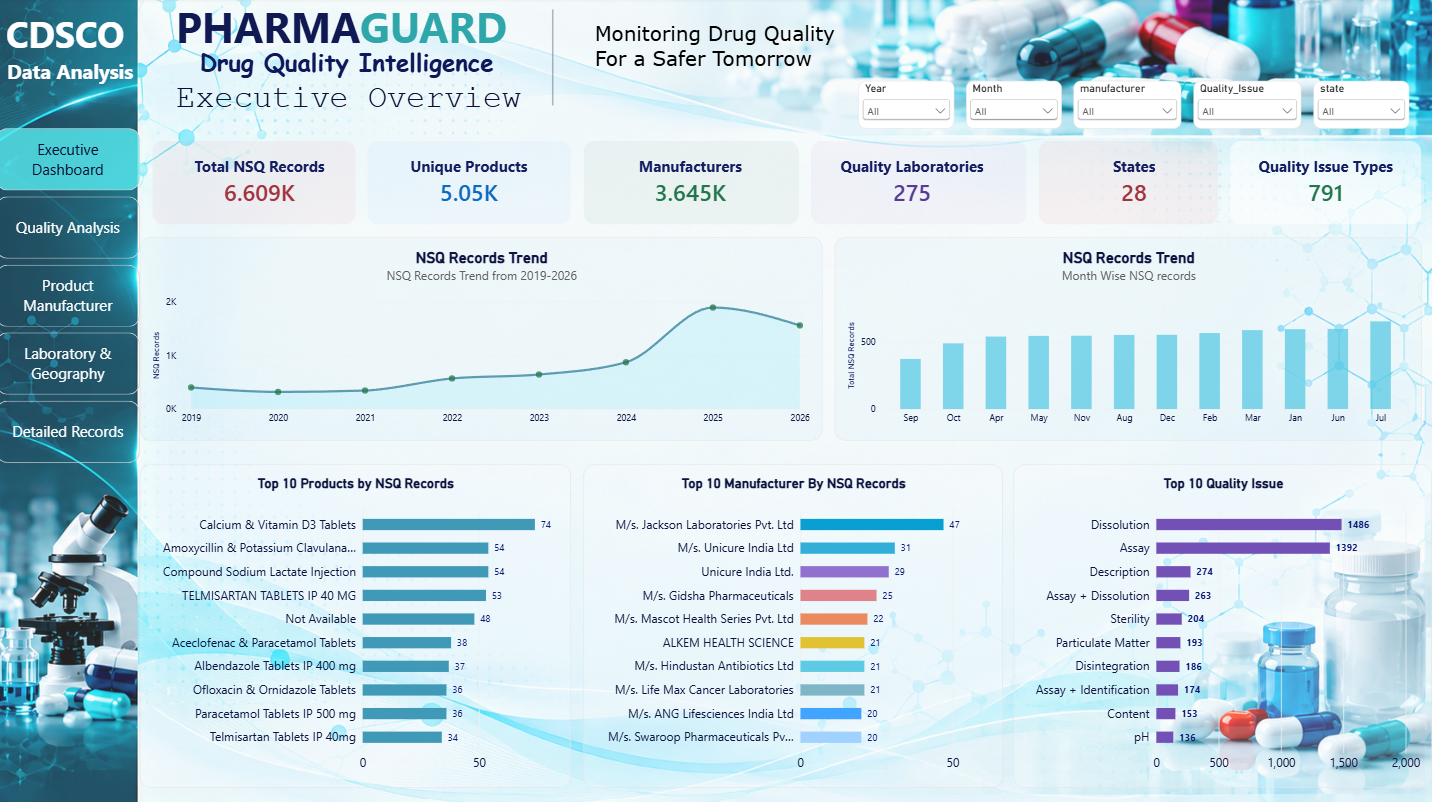

The page's visual inventory and layout, read from the dashboard file:
{"tool":"powerbi","page":{"name":"Executive Dashboard","canvas":[1920,1080],"ordinal":0},"visuals":[{"type":"shape","box":[1648,192,256,112],"z":0},{"type":"shape","box":[208,192,272,112],"z":1000},{"type":"cardVisual","fields":{"Data":["PharmaGuard.Total NSQ Records"]},"box":[240,192,224,112],"z":2000},{"type":"textbox","box":[240,0,496,80],"z":3000},{"type":"textbox","box":[272,64,496,80],"z":4000},{"type":"textbox","box":[240,112,496,48],"z":5000},{"type":"shape","box":[720,16,48,128],"z":6000},{"type":"textbox","box":[800,32,336,80],"z":7000},{"type":"slicer","fields":{"Values":["PharmaGuard.report_month_name"]},"box":[1296,112,128,64],"z":8000},{"type":"slicer","fields":{"Values":["PharmaGuard.report_year"]},"box":[1152,112,128,64],"z":9000},{"type":"slicer","fields":{"Values":["PharmaGuard.nsq_result_short_name"]},"box":[1600,112,144,64],"z":10000},{"type":"slicer","fields":{"Values":["PharmaGuard.manufacturer_short_name"]},"box":[1440,112,144,64],"z":11000},{"type":"slicer","fields":{"Values":["PharmaGuard.state"]},"box":[1760,112,128,64],"z":12000},{"type":"shape","box":[496,192,272,112],"z":13000},{"type":"shape","box":[784,192,288,112],"z":14000},{"type":"shape","box":[1088,192,288,112],"z":15000},{"type":"shape","box":[1392,192,240,112],"z":16000},{"type":"cardVisual","fields":{"Data":["PharmaGuard.Unique Products"]},"box":[528,192,208,112],"z":17000},{"type":"cardVisual","fields":{"Data":["PharmaGuard.Unique Manufacturers"]},"box":[832,192,192,112],"z":18000},{"type":"cardVisual","fields":{"Data":["PharmaGuard.Unique Laboratories"]},"box":[1104,192,240,112],"z":19000},{"type":"cardVisual","fields":{"Data":["PharmaGuard.Unique States"]},"box":[1424,192,192,112],"z":20000},{"type":"cardVisual","fields":{"Data":["PharmaGuard.Quality Issue Types"]},"box":[1664,192,224,112],"z":21000},{"type":"lineChart","title":"  NSQ Records Trend","fields":{"Y":["PharmaGuard.Total NSQ Records"],"Category":["PharmaGuard.report_year"]},"box":[192,320,912,272],"z":22000},{"type":"barChart","title":" Top 10 Quality Issue ","fields":{"Category":["PharmaGuard.nsq_result_short_name"],"Y":["PharmaGuard.Total NSQ Records"]},"box":[1360,624,560,432],"z":23000},{"type":"barChart","title":"Top 10 Products by NSQ Records","fields":{"Category":["PharmaGuard.product_short_name"],"Y":["PharmaGuard.Total NSQ Records"]},"box":[192,624,576,432],"z":24000},{"type":"barChart","title":"Top 10 Manufacturer By NSQ Records","fields":{"Category":["PharmaGuard.manufacturer_short_name"],"Y":["PharmaGuard.Total NSQ Records"]},"box":[784,624,560,432],"z":25000},{"type":"columnChart","title":"NSQ Records Trend","fields":{"Category":["PharmaGuard.report_month_name"],"Y":["PharmaGuard.Total NSQ Records"]},"box":[1120,320,784,272],"z":26000},{"type":"textbox","box":[0,16,192,176],"z":27000},{"type":"pageNavigator","box":[0,176,192,448],"z":28000}]}

Visuals, with their boxes in screenshot pixels (x1, y1, x2, y2), scaled from the page's 1920x1080 canvas onto the 1432x802 screenshot:
shape: bbox=(1229, 143, 1420, 226)
shape: bbox=(155, 143, 358, 226)
cardVisual - PharmaGuard.Total NSQ Records: bbox=(179, 143, 346, 226)
textbox: bbox=(179, 0, 549, 59)
textbox: bbox=(203, 48, 573, 107)
textbox: bbox=(179, 83, 549, 119)
shape: bbox=(537, 12, 573, 107)
textbox: bbox=(597, 24, 847, 83)
slicer - PharmaGuard.report_month_name: bbox=(967, 83, 1062, 131)
slicer - PharmaGuard.report_year: bbox=(859, 83, 955, 131)
slicer - PharmaGuard.nsq_result_short_name: bbox=(1193, 83, 1301, 131)
slicer - PharmaGuard.manufacturer_short_name: bbox=(1074, 83, 1181, 131)
slicer - PharmaGuard.state: bbox=(1313, 83, 1408, 131)
shape: bbox=(370, 143, 573, 226)
shape: bbox=(585, 143, 800, 226)
shape: bbox=(811, 143, 1026, 226)
shape: bbox=(1038, 143, 1217, 226)
cardVisual - PharmaGuard.Unique Products: bbox=(394, 143, 549, 226)
cardVisual - PharmaGuard.Unique Manufacturers: bbox=(621, 143, 764, 226)
cardVisual - PharmaGuard.Unique Laboratories: bbox=(823, 143, 1002, 226)
cardVisual - PharmaGuard.Unique States: bbox=(1062, 143, 1205, 226)
cardVisual - PharmaGuard.Quality Issue Types: bbox=(1241, 143, 1408, 226)
"  NSQ Records Trend" lineChart: bbox=(143, 238, 823, 440)
" Top 10 Quality Issue " barChart: bbox=(1014, 463, 1431, 784)
"Top 10 Products by NSQ Records" barChart: bbox=(143, 463, 573, 784)
"Top 10 Manufacturer By NSQ Records" barChart: bbox=(585, 463, 1002, 784)
"NSQ Records Trend" columnChart: bbox=(835, 238, 1420, 440)
textbox: bbox=(0, 12, 143, 143)
pageNavigator: bbox=(0, 131, 143, 463)
